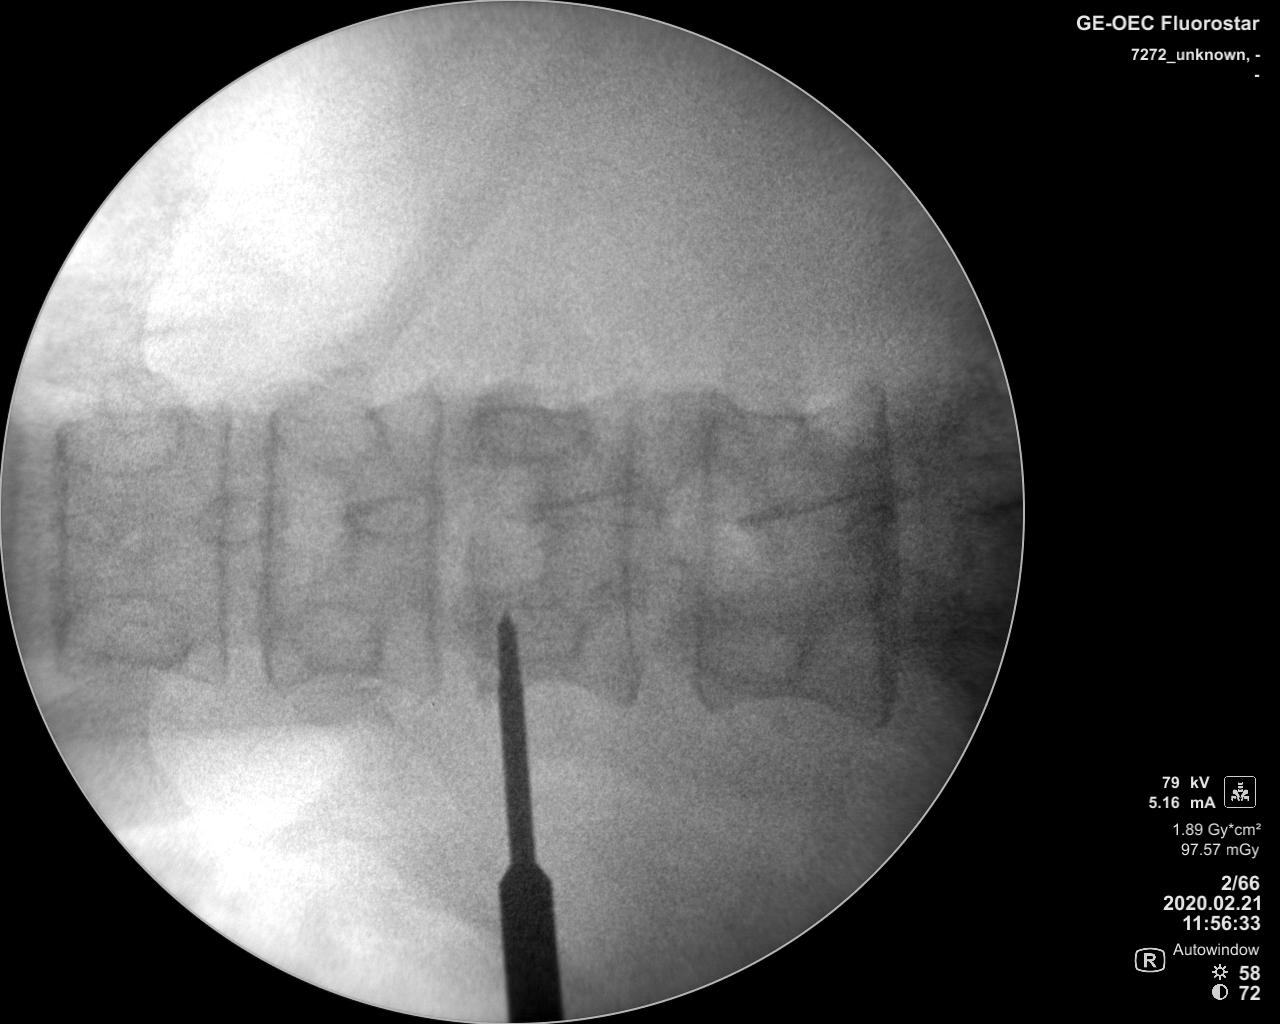eyes: (259, 602, 381, 691), (65, 589, 195, 672), (467, 392, 602, 463), (703, 603, 806, 693), (55, 408, 191, 474), (711, 385, 813, 465), (277, 387, 381, 462), (476, 602, 587, 662)
line: (863, 376, 911, 735), (408, 381, 455, 698), (684, 378, 721, 729), (247, 399, 288, 699), (610, 387, 648, 714), (200, 406, 237, 686), (41, 417, 82, 670)
nose: (728, 489, 878, 546), (519, 484, 665, 536), (187, 491, 290, 551), (334, 488, 434, 540), (43, 501, 134, 554)
